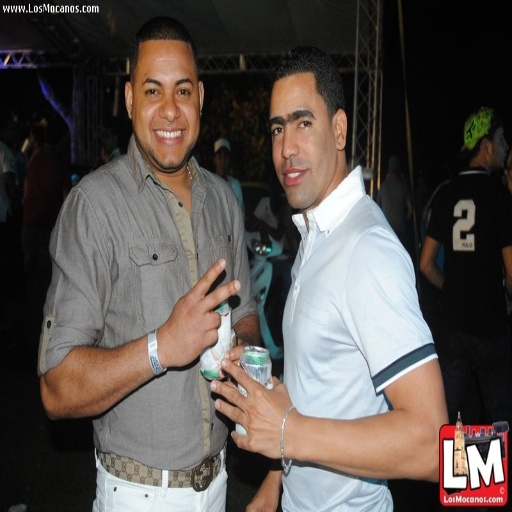hand: (210, 355, 293, 458), (152, 257, 227, 367), (246, 481, 279, 510), (218, 341, 243, 378)
